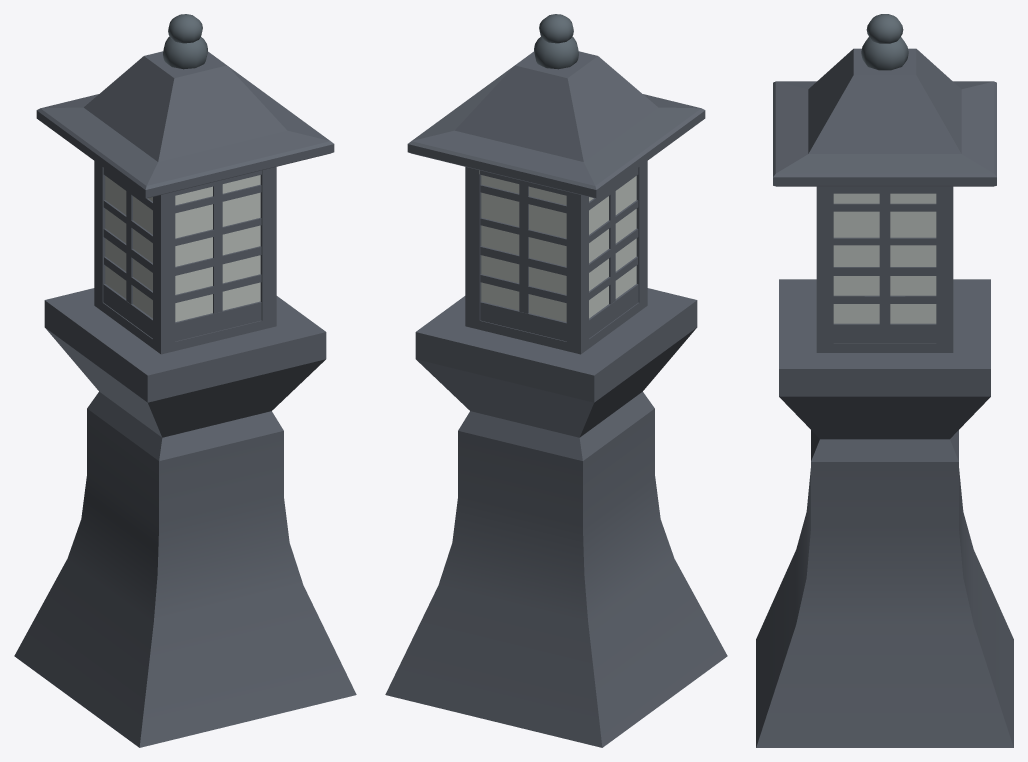
The model's file is Lamp_2.fbx.
3 views of the same model, side by side, from view 1: azimuth 30°, elevation 25°; view 2: azimuth 150°, elevation 25°; view 3: azimuth 270°, elevation 25° (orthographic). The views are drawn at different scales.
Parts seen in each view (by area): view 1: Lamp_2; view 2: Lamp_2; view 3: Lamp_2.
Part boxes in pixels (x1,y1,x2,y2): Lamp_2: (14, 14, 356, 747); Lamp_2: (385, 14, 727, 747); Lamp_2: (756, 14, 1013, 747).
Bounding box in the file's own units: 48.43 × 141 × 48.43.
